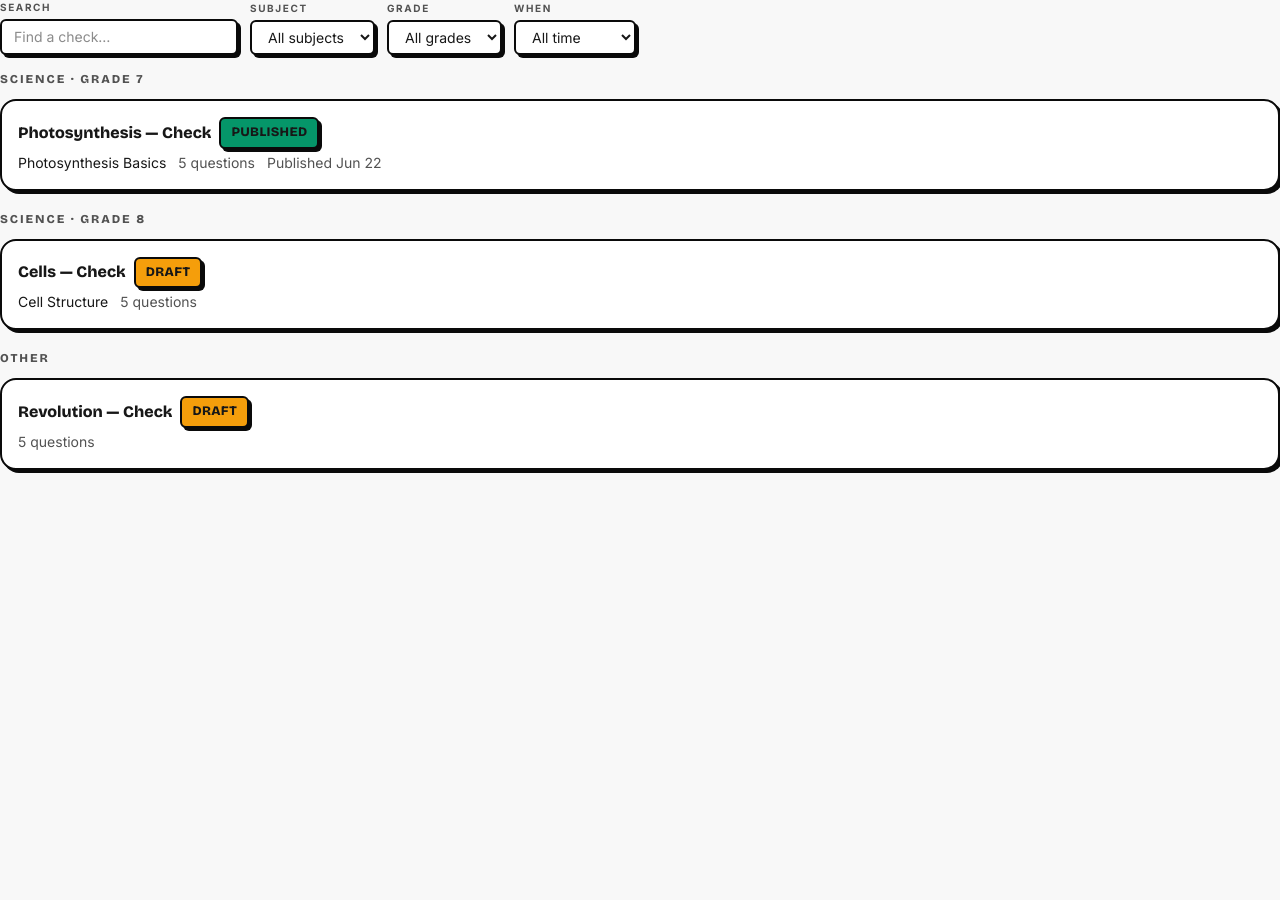
QuizLibrary › a published quiz offers Unpublish (not Publish)
The image size is (1280, 900).
Click the button "Photosynthesis — Check" at [115, 132], box [0,99,1279,190]
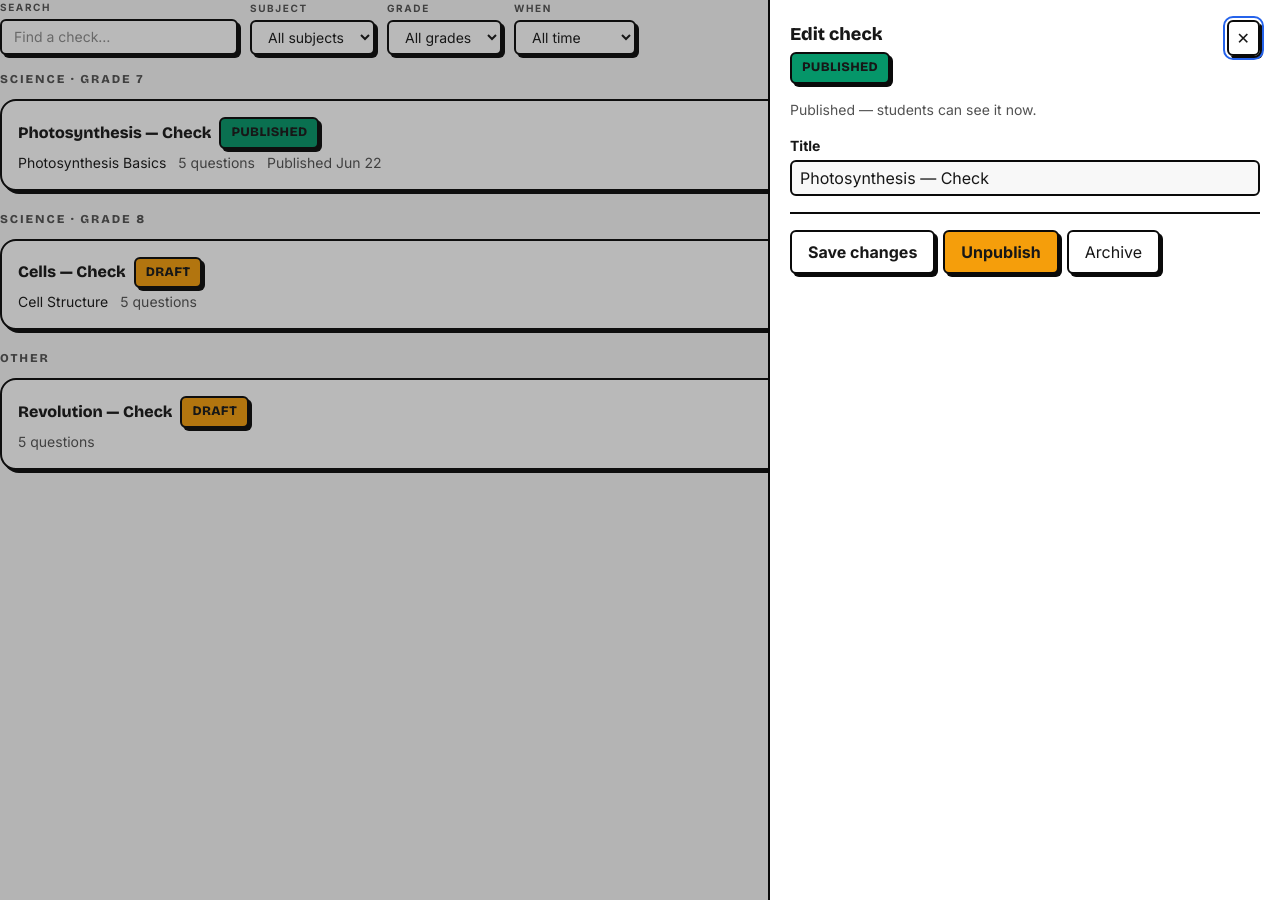
Check: the button "Unpublish" is shown, box [943,230,1059,274]
